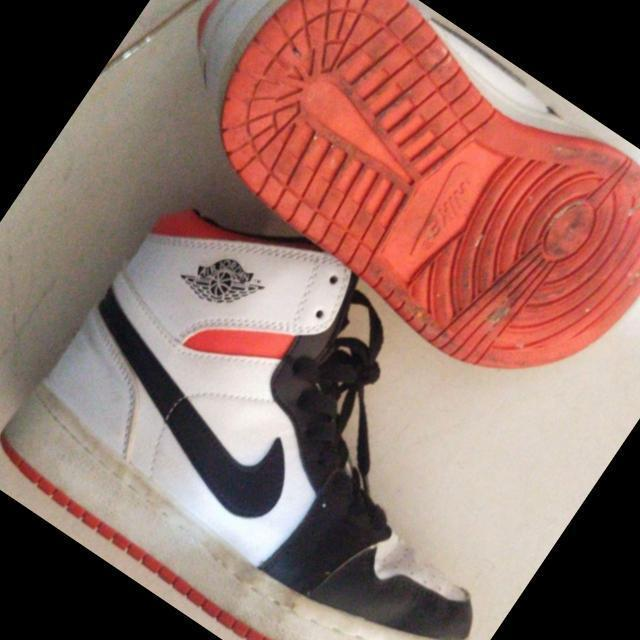nike fake jordan 1: (0, 146, 615, 640)
